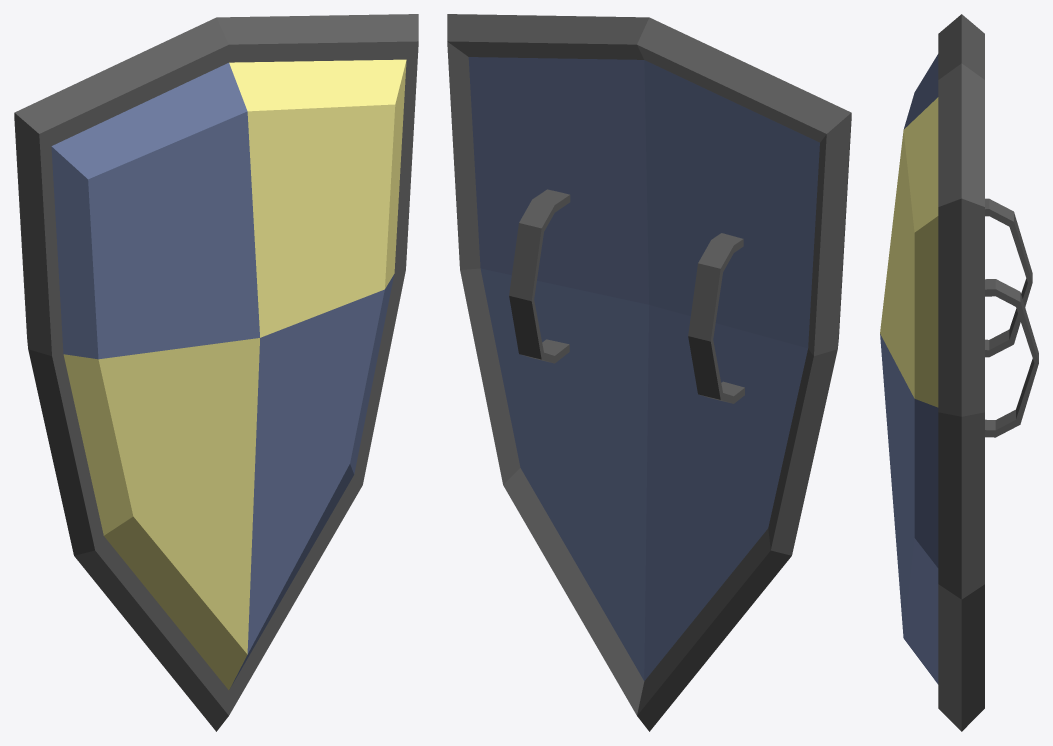
File: Kite shield.fbx
3 renders of one model, left to right at view 1: azimuth 30°, elevation 25°; view 2: azimuth 150°, elevation 25°; view 3: azimuth 270°, elevation 25°, orthographic. The views are drawn at different scales.
Parts seen in each view (by area): view 1: Shield; view 2: Shield; view 3: Shield.
Boxes of the visible parts, x1,y1,x2,y2 form: Shield: (14,14,418,731); Shield: (447,14,851,731); Shield: (880,14,1038,731).
Size of the model in its own units: 138 by 233 by 50.27.
